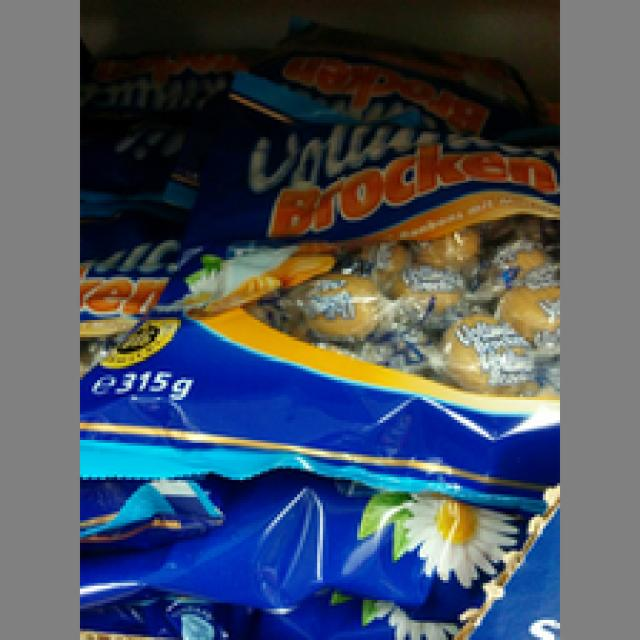groceries: (83, 100, 551, 486)
